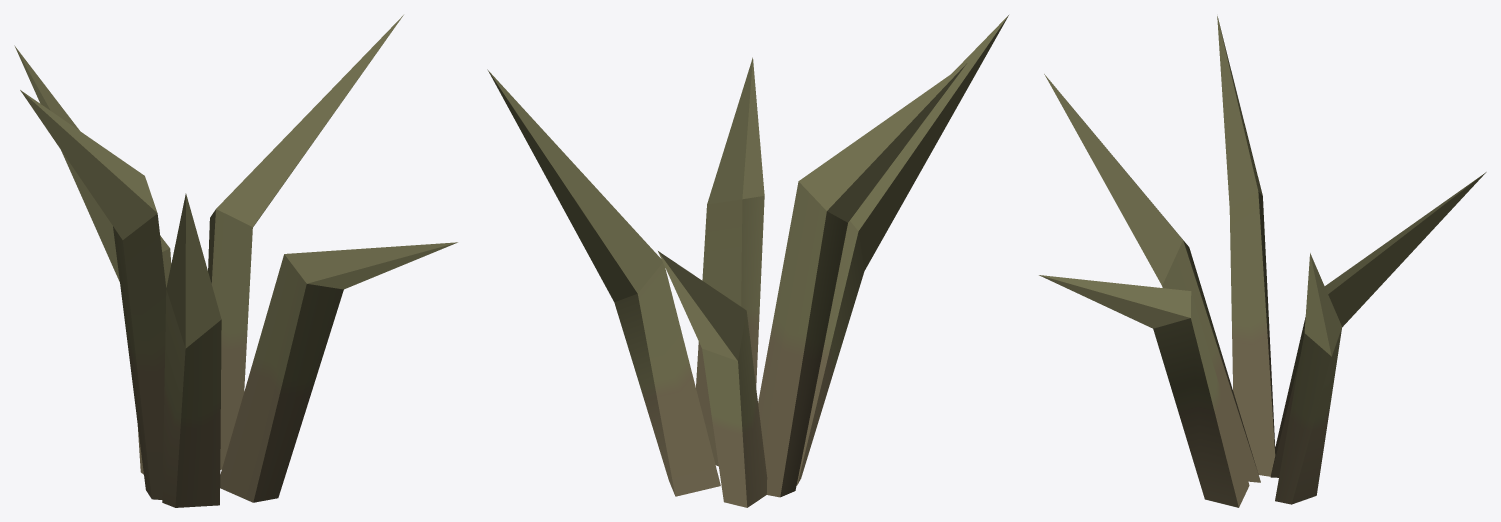
The model's file is SM_Env_Grass_01.glb.
3 renders of one model, left to right at view 1: azimuth 30°, elevation 25°; view 2: azimuth 150°, elevation 25°; view 3: azimuth 270°, elevation 25°, orthographic. The views are drawn at different scales.
Parts seen in each view (by area): view 1: SM_Env_Grass_01; view 2: SM_Env_Grass_01; view 3: SM_Env_Grass_01.
Boxes of the visible parts, x1=… form: SM_Env_Grass_01: x1=14, y1=15, x2=457, y2=507; SM_Env_Grass_01: x1=487, y1=15, x2=1008, y2=507; SM_Env_Grass_01: x1=1039, y1=16, x2=1486, y2=507.
Bounding box in the file's own units: 0.8668 × 0.8724 × 0.9243.
Materials: 1 (1 with a texture image).
